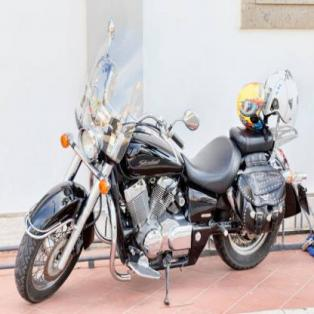Motocicleta: (12, 19, 314, 313)
